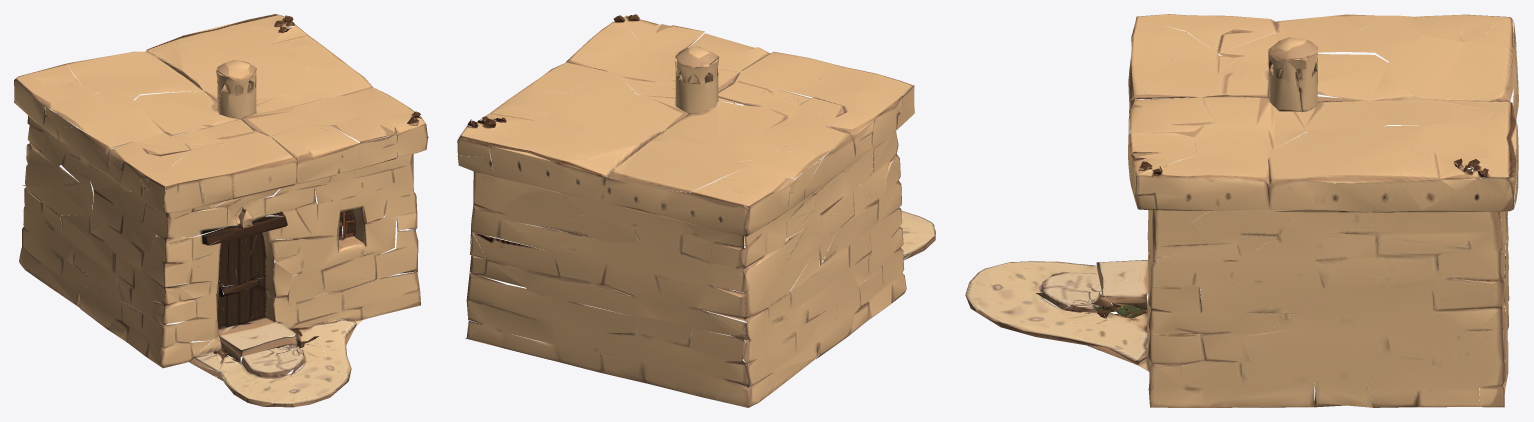
The model's file is prop_house.glb.
3 renders of one model, left to right at view 1: azimuth 30°, elevation 25°; view 2: azimuth 150°, elevation 25°; view 3: azimuth 270°, elevation 25°, orthographic. The views are drawn at different scales.
Parts seen in each view (by area): view 1: body; view 2: body; view 3: body.
Part boxes in pixels (x1,y1,x2,y2): body: [14, 14, 428, 407]; body: [457, 14, 935, 407]; body: [965, 14, 1518, 407].
Bounding box in the file's own units: 3.95 × 3.2 × 5.54.
Materials: 1 (1 with a texture image).
